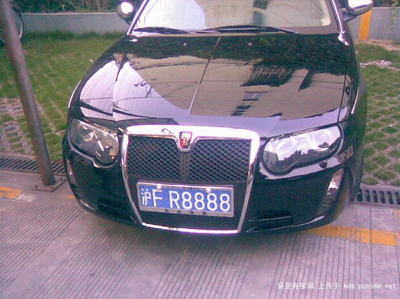plate_number: (134, 181, 236, 217)
